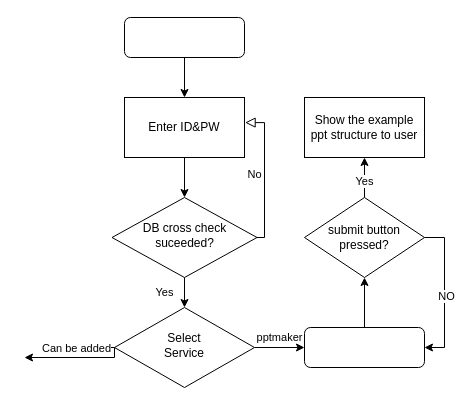
Image size: 472x405. Some labels were removed from this diagram. The shapes that lost their labels are listed below. From the top down, each one's box as (x1, y1, x2, y2) in pixels, then its label:
(124, 16, 244, 58): User Login
(304, 326, 424, 368): enter topic&details
